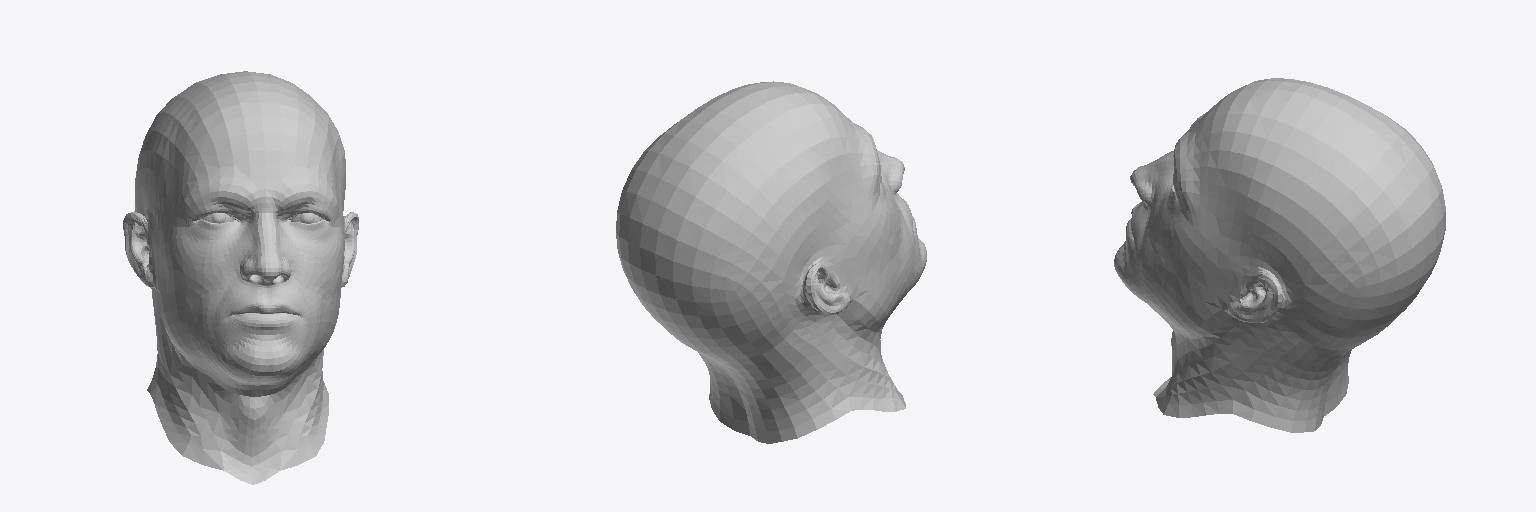
File: modela.obj
The picture shows the model from 3 angles: view 1: azimuth 30°, elevation 25°; view 2: azimuth 150°, elevation 25°; view 3: azimuth 270°, elevation 25°; orthographic projection.
Parts seen in each view (by area): view 1: man_body_0014_uv_map_man_body_0014_uv_map.001; view 2: man_body_0014_uv_map_man_body_0014_uv_map.001; view 3: man_body_0014_uv_map_man_body_0014_uv_map.001.
Part boxes in pixels (x1,y1,x2,y2): man_body_0014_uv_map_man_body_0014_uv_map.001: (123,71,358,484); man_body_0014_uv_map_man_body_0014_uv_map.001: (616,81,926,443); man_body_0014_uv_map_man_body_0014_uv_map.001: (1114,78,1445,432).
Size of the model in its own units: 0.1837 by 0.2739 by 0.2462.